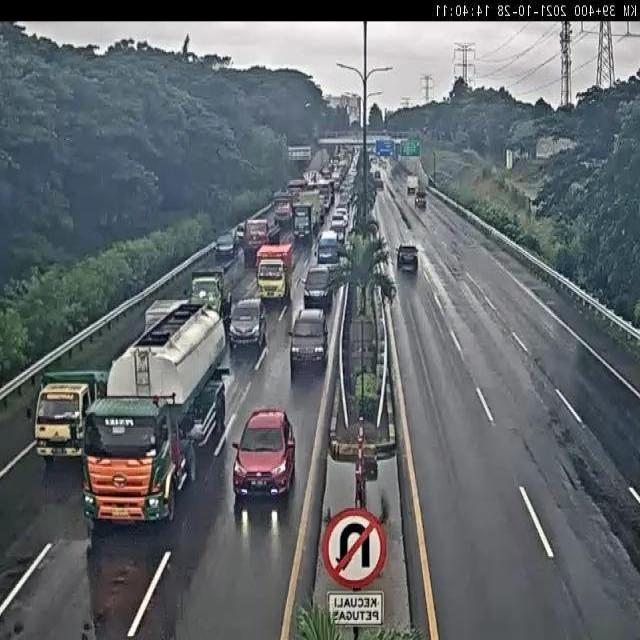Car: (225, 385, 311, 528), (288, 307, 327, 374), (228, 296, 269, 354), (303, 262, 339, 311), (215, 231, 238, 262), (396, 244, 419, 273)
Truck: (85, 295, 230, 527), (86, 530, 175, 640), (34, 365, 107, 461), (189, 268, 233, 328), (334, 278, 356, 389), (255, 242, 292, 300), (144, 298, 188, 337), (242, 217, 274, 267), (292, 202, 314, 243), (317, 230, 339, 262), (273, 196, 293, 230), (354, 463, 368, 510), (316, 136, 356, 150), (339, 199, 354, 236), (399, 144, 423, 166), (361, 451, 378, 481), (358, 274, 370, 316), (316, 178, 332, 206), (348, 148, 362, 180), (376, 316, 386, 359), (348, 190, 362, 220), (287, 178, 306, 200), (536, 137, 555, 159), (333, 217, 348, 243), (334, 238, 350, 262), (344, 138, 376, 150), (332, 147, 346, 174), (321, 197, 334, 226), (365, 218, 380, 242), (375, 444, 395, 462), (579, 157, 605, 170), (338, 253, 350, 280), (371, 138, 388, 157), (342, 178, 356, 201), (334, 206, 348, 228), (328, 258, 344, 276), (369, 162, 382, 184), (95, 378, 108, 400), (280, 230, 294, 250), (339, 144, 355, 160), (393, 138, 407, 156), (406, 176, 418, 196), (415, 189, 427, 209), (374, 155, 388, 172), (331, 168, 342, 188), (325, 174, 336, 194), (320, 166, 332, 184), (235, 223, 245, 244), (450, 265, 464, 280), (336, 173, 346, 192), (320, 130, 339, 140), (387, 284, 397, 302), (366, 142, 376, 158), (307, 171, 318, 185), (278, 189, 290, 201), (506, 149, 512, 170), (517, 151, 529, 161), (304, 178, 314, 189), (381, 234, 388, 249), (428, 174, 436, 187), (312, 133, 320, 146), (463, 148, 476, 156), (422, 124, 430, 137), (388, 184, 394, 198), (379, 130, 390, 137), (407, 185, 412, 195), (183, 287, 188, 297)
